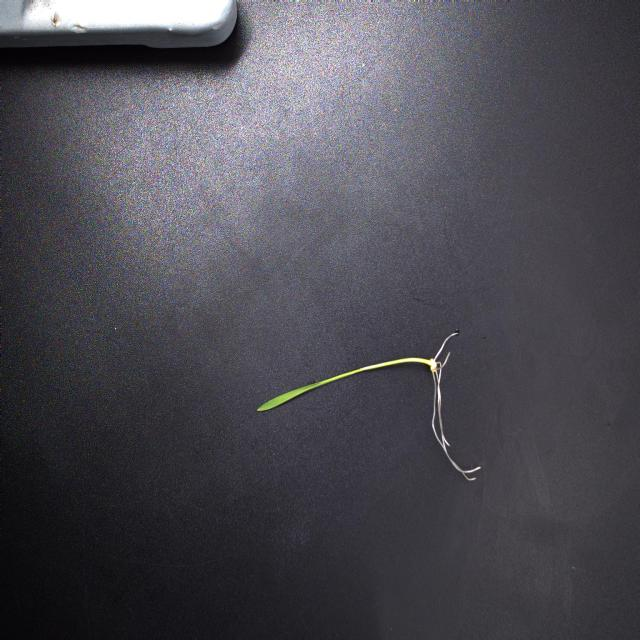leaf: (258, 381, 325, 411), (314, 368, 361, 387)
root: (430, 332, 461, 449)
stem: (361, 356, 432, 372)
